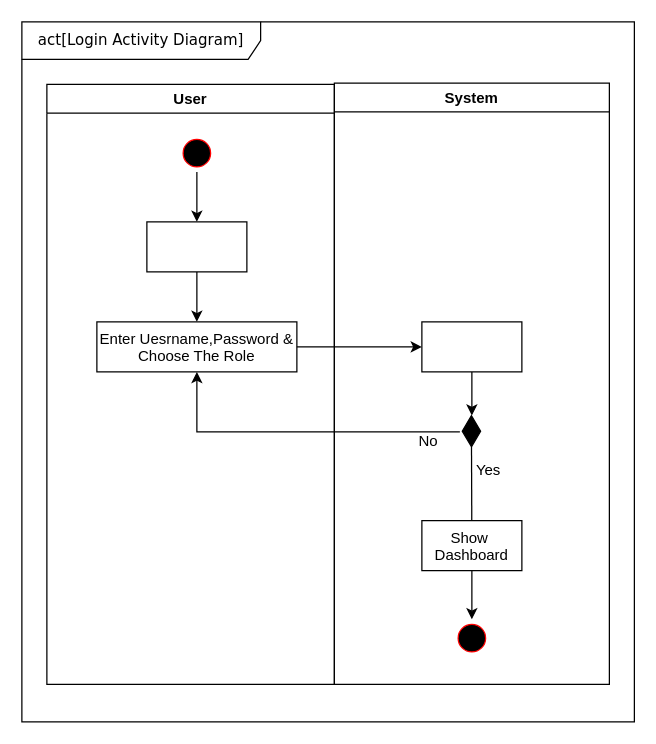
The diagram is 656 pixels wide and 744 high, and some of its shapes have lost their labels. The shapes that lost their labels are listed below. From the top down, each one's centre as x and y in pixels, then its label:
At point 196,246: "Access App".
At point 471,346: "Validation".
